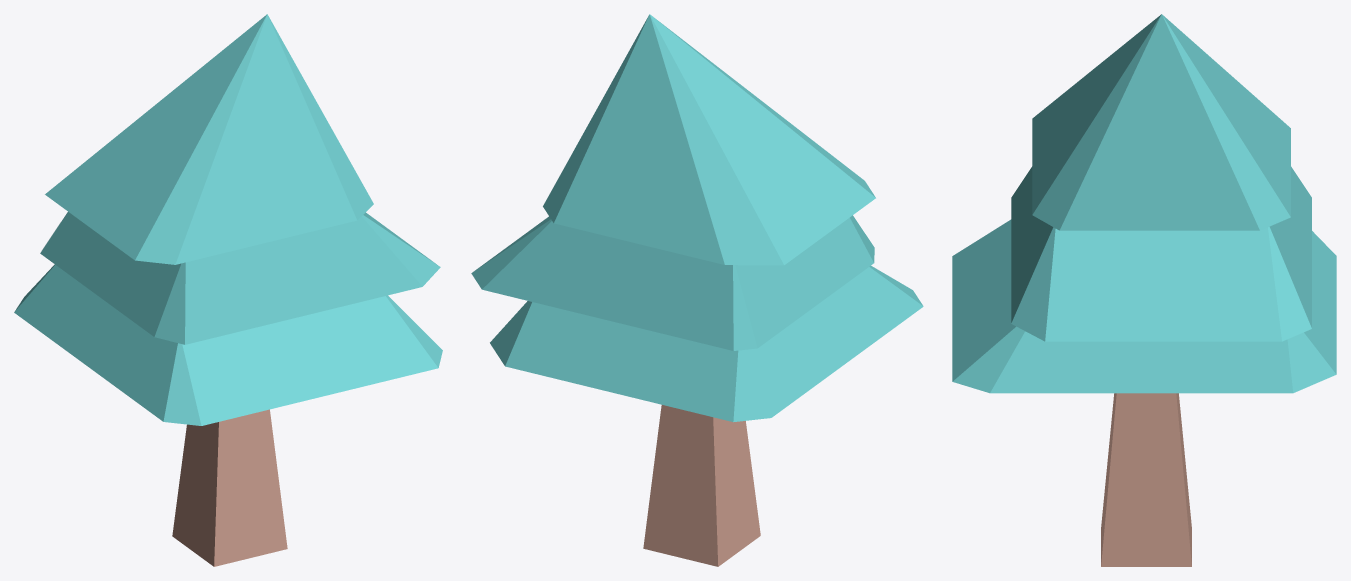
File: pine-tall.glb
3 renders of one model, left to right at view 1: azimuth 30°, elevation 25°; view 2: azimuth 150°, elevation 25°; view 3: azimuth 270°, elevation 25°, orthographic. The views are drawn at different scales.
Parts seen in each view (by area): view 1: part-1, part-0; view 2: part-1, part-0; view 3: part-1, part-0.
Part boxes in pixels (x1,y1,x2,y2): part-1: (14, 14, 442, 425); part-0: (172, 409, 287, 566); part-1: (471, 14, 923, 422); part-0: (643, 405, 760, 566); part-1: (952, 14, 1336, 393); part-0: (1101, 393, 1191, 566).
Bounding box in the file's own units: 7.5 × 12 × 7.5.
